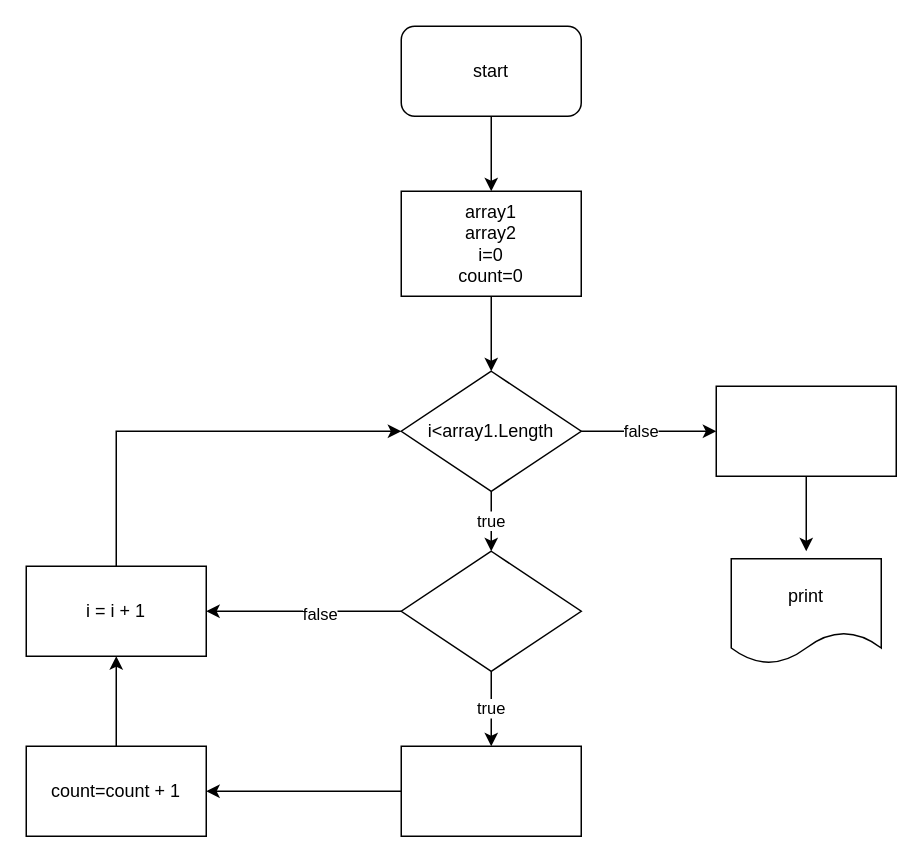
Image size: 923x863. Some labels were removed from this diagram. The centre of each missing label's shape, as x and y in pixels:
"array1[i]<=3" belongs at (490,610).
"array1[i]=array2[count]" belongs at (490,790).
"array2" belongs at (805,430).
